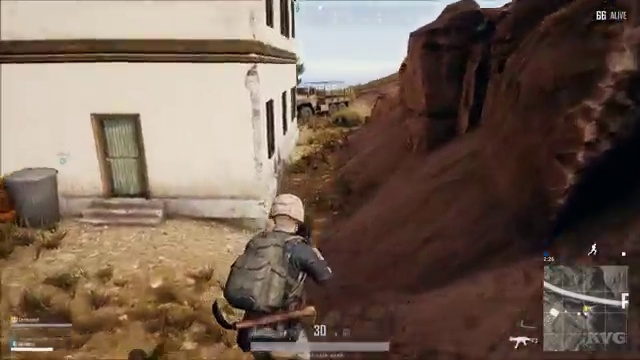Player: (211, 185, 351, 321)
